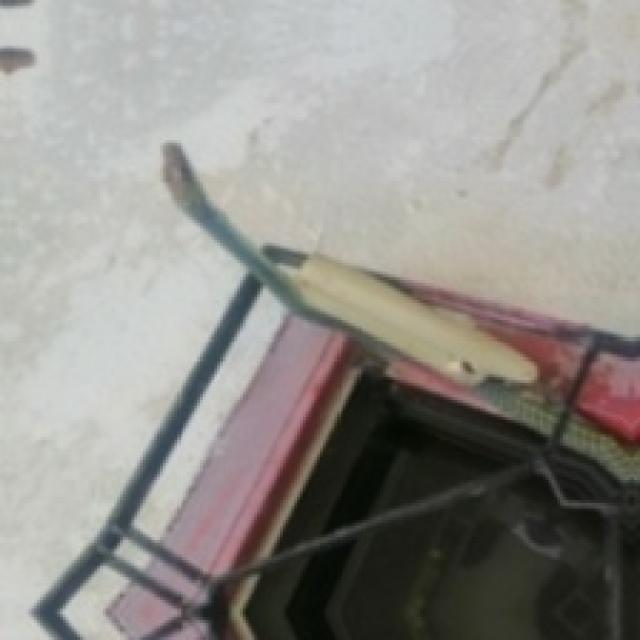paradise tree snake: (163, 143, 534, 383)
